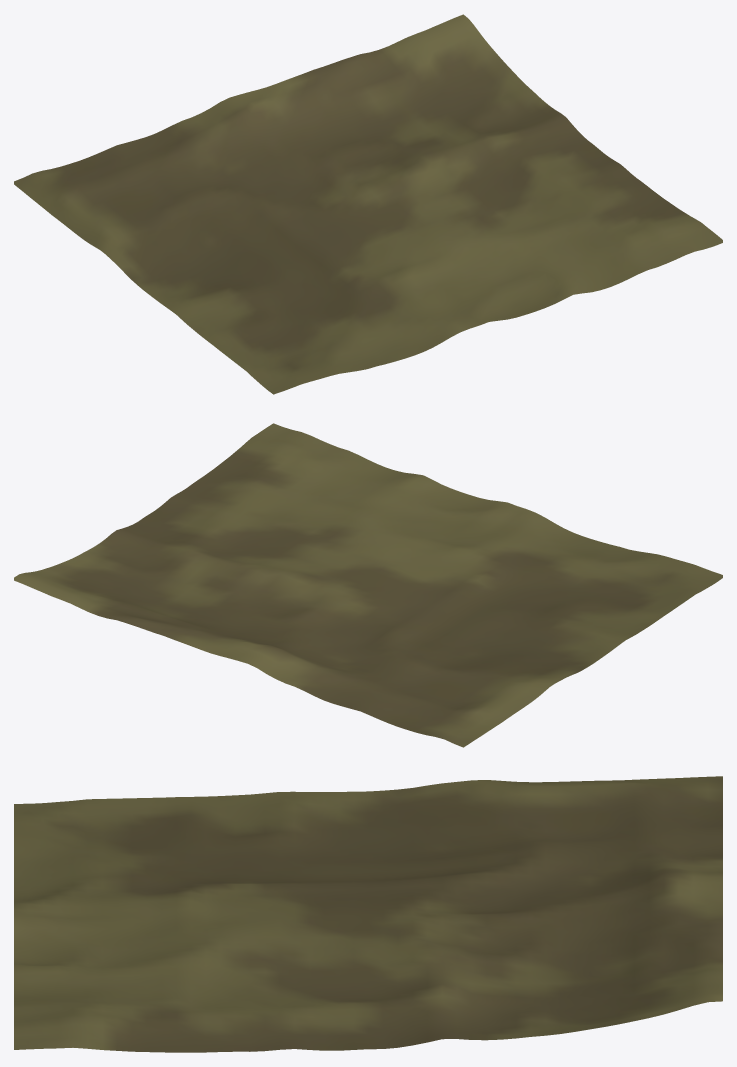
Rendered from land_m_14_00.glb.
3 views of the same model, one above another, from view 1: azimuth 30°, elevation 25°; view 2: azimuth 150°, elevation 25°; view 3: azimuth 270°, elevation 25° (orthographic). The views are drawn at different scales.
Parts seen in each view (by area): view 1: land_m_14_00; view 2: land_m_14_00; view 3: land_m_14_00.
Part boxes in pixels (x1,y1,x2,y2): land_m_14_00: [14, 14, 722, 394]; land_m_14_00: [14, 423, 722, 747]; land_m_14_00: [14, 776, 722, 1052].
Size of the model in its own units: 960 by 164 by 960.
